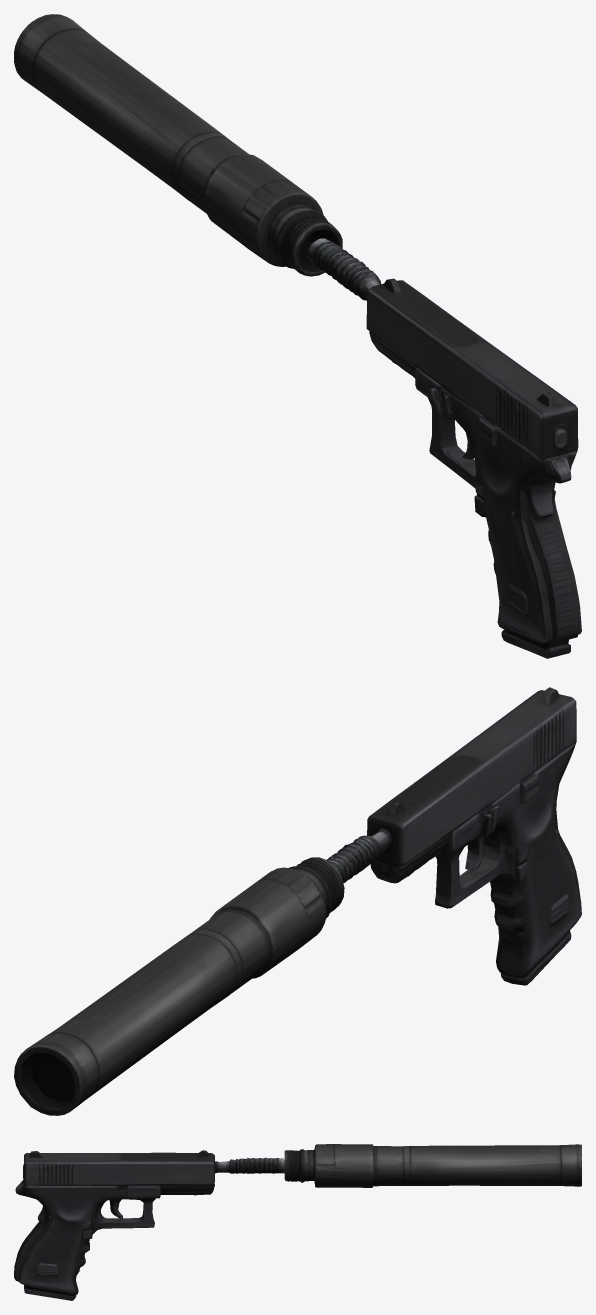
The model's file is black_glock_threaded_suppressed.glb.
3 views of the same model, one above another, from view 1: azimuth 30°, elevation 25°; view 2: azimuth 150°, elevation 25°; view 3: azimuth 270°, elevation 25° (orthographic). The views are drawn at different scales.
Parts seen in each view (by area): view 1: black_glock_threaded_suppressed; view 2: black_glock_threaded_suppressed; view 3: black_glock_threaded_suppressed.
Part boxes in pixels (<box>): black_glock_threaded_suppressed: <box>14,14,581,658</box>; black_glock_threaded_suppressed: <box>14,687,581,1115</box>; black_glock_threaded_suppressed: <box>14,1144,581,1300</box>.
Bounding box in the file's own units: 0.0362 × 0.138 × 0.468.
2 materials, 2 textured.
